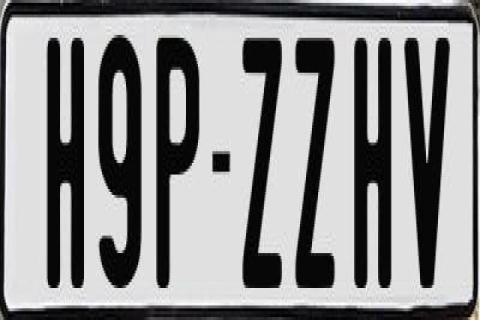0: (98, 29, 146, 297)
H: (44, 38, 85, 300), (352, 32, 390, 288)
P: (156, 32, 202, 296)
V: (404, 35, 452, 299)
Z: (292, 35, 336, 299), (242, 38, 286, 291)
